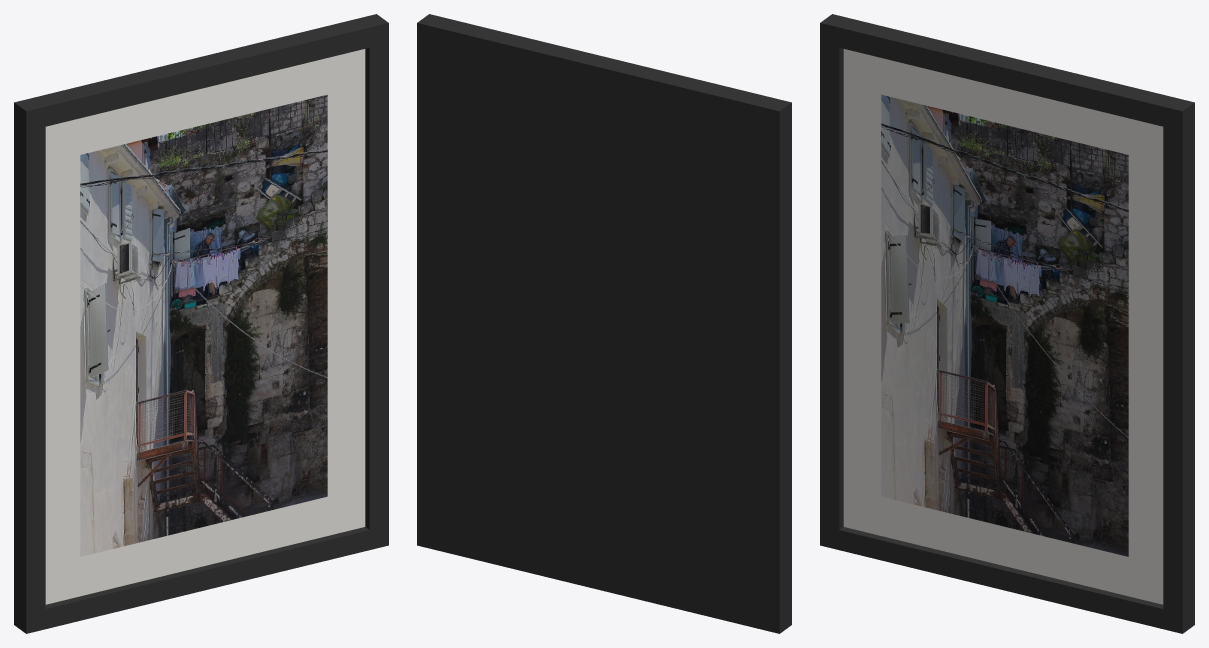
The model's file is tvatten-40.gltf.
3 views of the same model, side by side, from view 1: azimuth 30°, elevation 25°; view 2: azimuth 150°, elevation 25°; view 3: azimuth 330°, elevation 25° (orthographic).
Visible parts, largest first — view 1: tavla; view 2: tavla; view 3: tavla.
Part boxes in pixels (x1,y1,x2,y2): tavla: (14,14,388,633); tavla: (417,14,791,633); tavla: (820,14,1194,633).
Size of the model in its own units: 0.3775 by 0.52 by 0.022.
3 materials, 1 textured.
